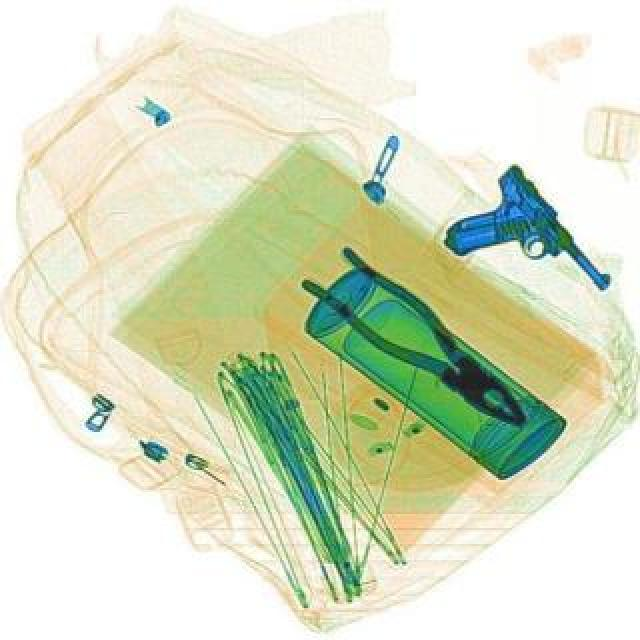gun: (428, 162, 620, 342)
wrench: (294, 234, 546, 450)
